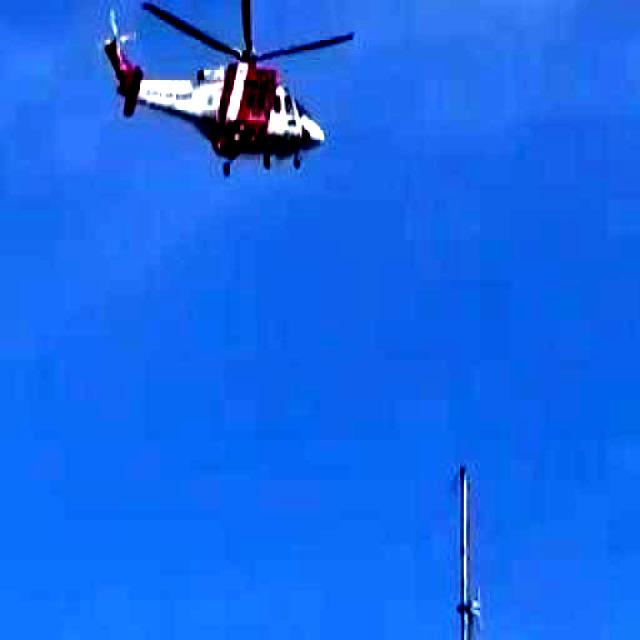drone: (80, 0, 414, 224)
